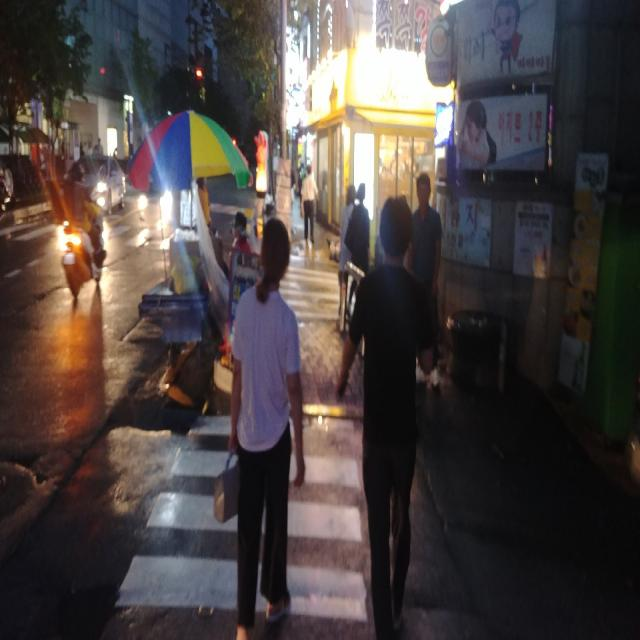횡단보도: (113, 417, 369, 628)
